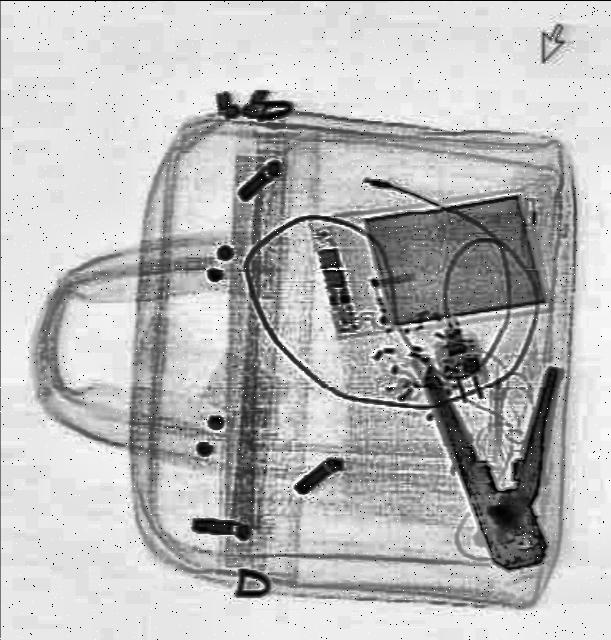Pliers: (422, 353, 592, 582)
